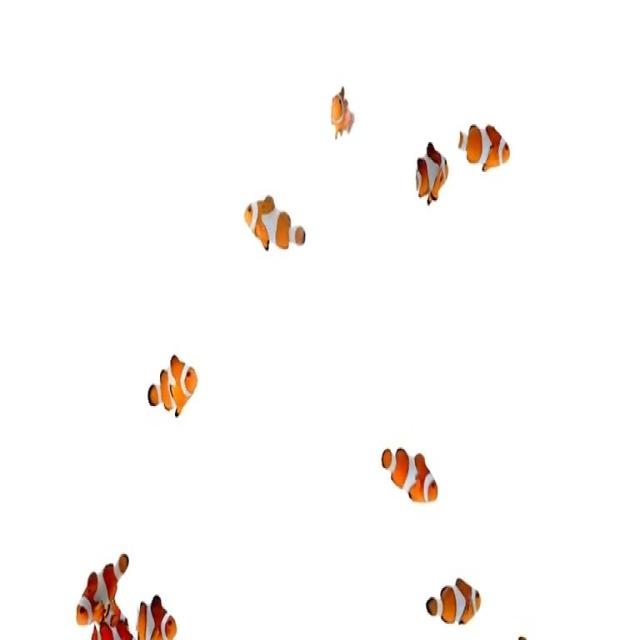fish: (380, 431, 440, 519), (242, 183, 310, 257), (422, 563, 489, 637), (146, 347, 202, 429), (69, 548, 127, 624), (455, 111, 517, 182), (409, 132, 455, 212), (132, 590, 186, 637), (328, 81, 353, 149)
